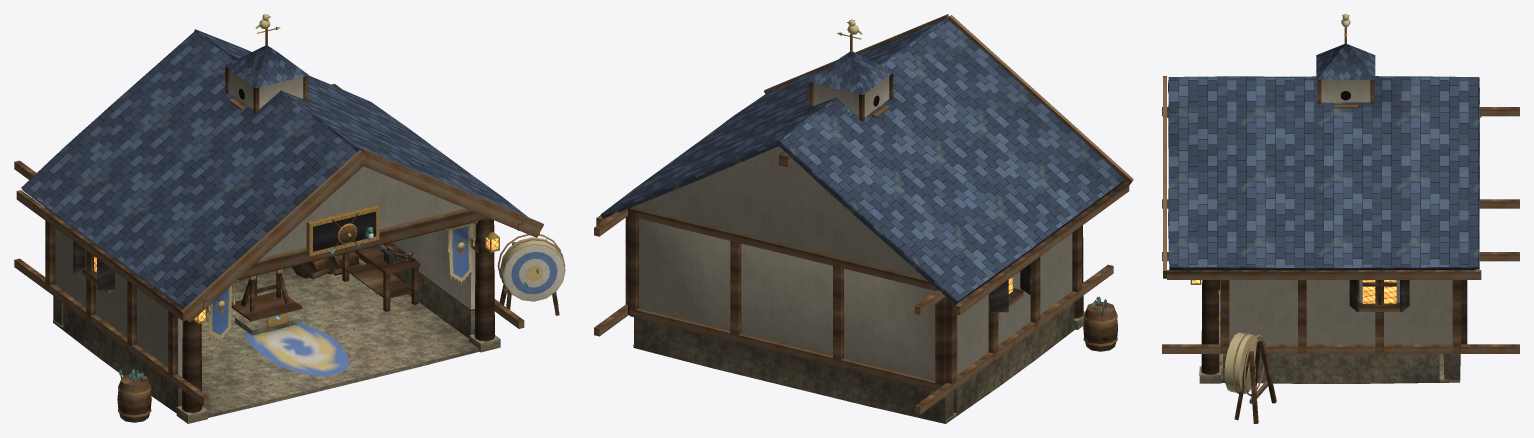
The model's file is armoury.glb.
3 views of the same model, side by side, from view 1: azimuth 30°, elevation 25°; view 2: azimuth 150°, elevation 25°; view 3: azimuth 270°, elevation 25° (orthographic). The views are drawn at different scales.
Visible parts, largest first — view 1: D_Armoury; view 2: D_Armoury; view 3: D_Armoury.
Boxes of the visible parts, x1,y1,x2,y2 form: D_Armoury: (14,14,565,423); D_Armoury: (594,14,1133,423); D_Armoury: (1162,14,1519,423).
Size of the model in its own units: 10.07 by 6.86 by 7.4.
Materials: 9 (9 with a texture image).
